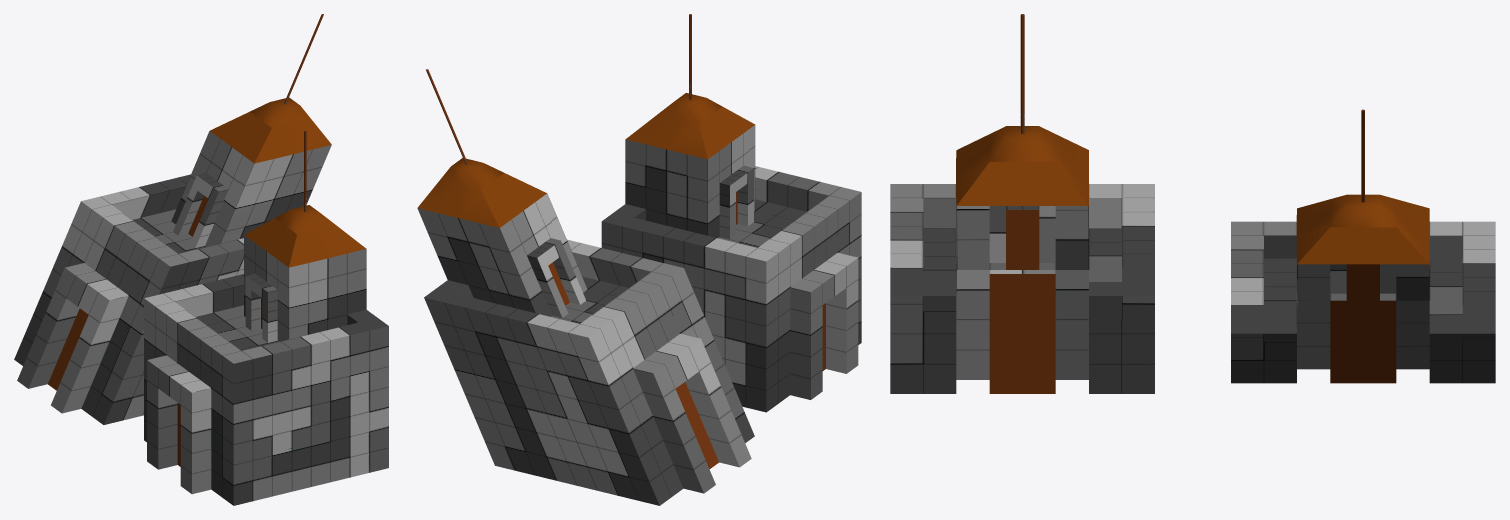
File: castleneutral.fbx
3 views of the same model, side by side, from view 1: azimuth 30°, elevation 25°; view 2: azimuth 150°, elevation 25°; view 3: azimuth 270°, elevation 25° (orthographic). The views are drawn at different scales.
Visible parts, largest first — view 1: CastleBlueNormal001, CastleBlueSkew002; view 2: CastleBlueSkew002, CastleBlueNormal001; view 3: CastleBlueNormal001, CastleBlueSkew002.
Boxes of the visible parts, bbox=[...] form: CastleBlueNormal001: bbox=[144, 130, 388, 505]; CastleBlueSkew002: bbox=[14, 14, 331, 424]; CastleBlueSkew002: bbox=[417, 69, 754, 505]; CastleBlueNormal001: bbox=[601, 14, 861, 412]; CastleBlueNormal001: bbox=[890, 14, 1154, 393]; CastleBlueSkew002: bbox=[1231, 109, 1495, 383].
Size of the model in its own units: 733 by 772 by 915.
